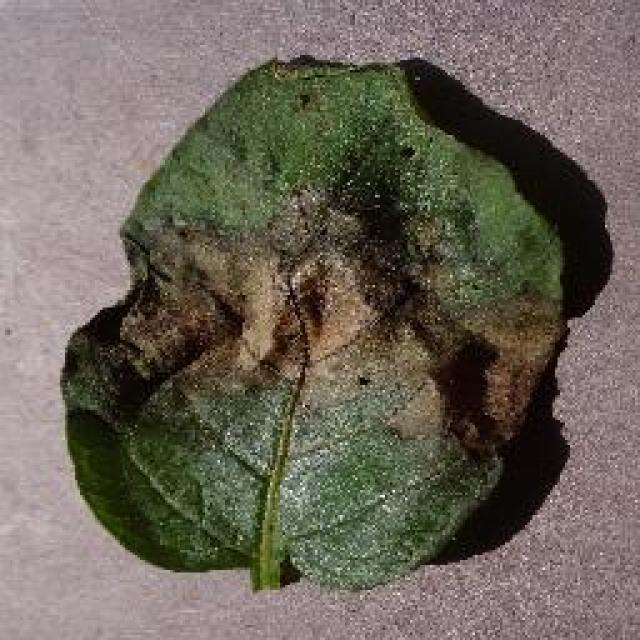late_blight: (55, 50, 597, 592)
